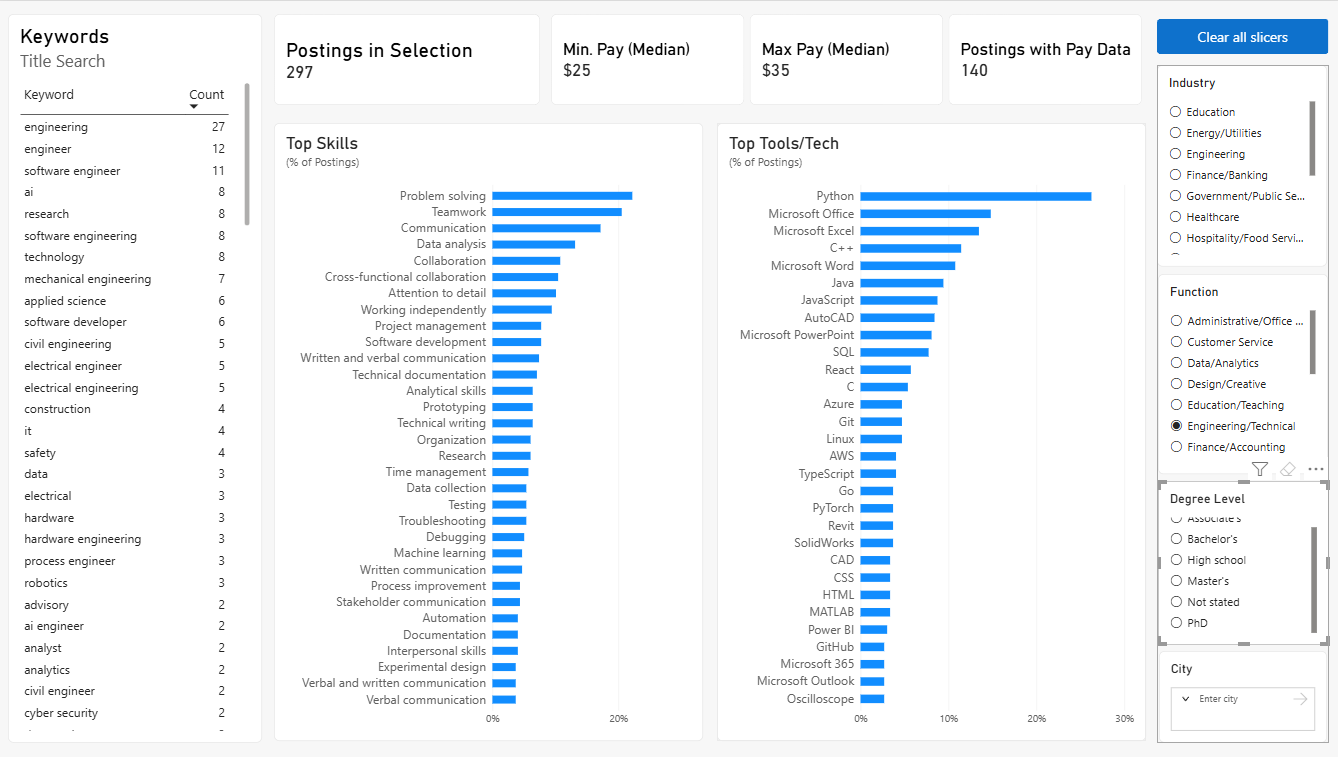

The page's visual inventory and layout, read from the dashboard file:
{"tool":"powerbi","page":{"name":"Page 1","canvas":[1920,1080],"ordinal":0},"visuals":[{"type":"listSlicer","title":"Industry","fields":{"Values":["postings.industry"]},"box":[1657.1,91.4,243.3,288.3],"z":0,"group":"g1"},{"type":"clusteredBarChart","title":"Top Skills","fields":{"Category":["posting_terms.term"],"Y":["postings.% of postings"]},"box":[395.7,174.3,612.9,882.9],"z":0},{"type":"listSlicer","title":"Function","fields":{"Values":["postings.function"]},"box":[1658.5,390,242.9,285.7],"z":1000,"group":"g1"},{"type":"cardVisual","title":"Number of Postings","fields":{"Data":["postings.Postings in selection"]},"box":[395.7,18.6,380,130],"z":2000},{"type":"textSlicer","title":"City","fields":{"Values":["postings.city"]},"box":[1660,928.5,240,131.4],"z":2000,"group":"g1"},{"type":"actionButton","box":[1657.1,25.7,245,50],"z":3000},{"type":"listSlicer","title":"Degree Level","fields":{"Values":["postings.degree_level"]},"box":[1658.5,685.7,244.3,234.3],"z":3000,"group":"g1"},{"type":"clusteredBarChart","title":"Top Tools/Tech","fields":{"Category":["posting_terms.term"],"Y":["postings.% of postings"]},"box":[1028.6,174.3,612.9,882.9],"z":4000},{"type":"tableEx","title":"Keywords","fields":{"Values":["posting_terms.keyword_lowercase","postings.Postings with term"]},"box":[15.7,18.6,362.9,1041.4],"z":5000},{"type":"cardVisual","fields":{"Data":["postings.Median hourly min","postings.Median hourly max","postings.Pay n"]},"box":[791.4,18.6,844.3,130],"z":6000},{"type":"group","id":"g1","title":"Group 1","box":[1657.1,91.4,245.7,968.6],"z":7000}]}

Visuals, with their boxes in screenshot pixels (x1, y1, x2, y2), scaled from the page's 1920x1080 canvas onto the 1338x757 screenshot:
"Industry" listSlicer: 1155, 64, 1324, 266
"Top Skills" clusteredBarChart: 276, 122, 703, 741
"Function" listSlicer: 1156, 273, 1325, 474
"Number of Postings" cardVisual: 276, 13, 541, 104
"City" textSlicer: 1157, 651, 1324, 743
actionButton: 1155, 18, 1326, 53
"Degree Level" listSlicer: 1156, 481, 1326, 645
"Top Tools/Tech" clusteredBarChart: 717, 122, 1144, 741
"Keywords" tableEx: 11, 13, 264, 743
cardVisual - postings.Median hourly min x postings.Median hourly max: 552, 13, 1140, 104
"Group 1" group: 1155, 64, 1326, 743
